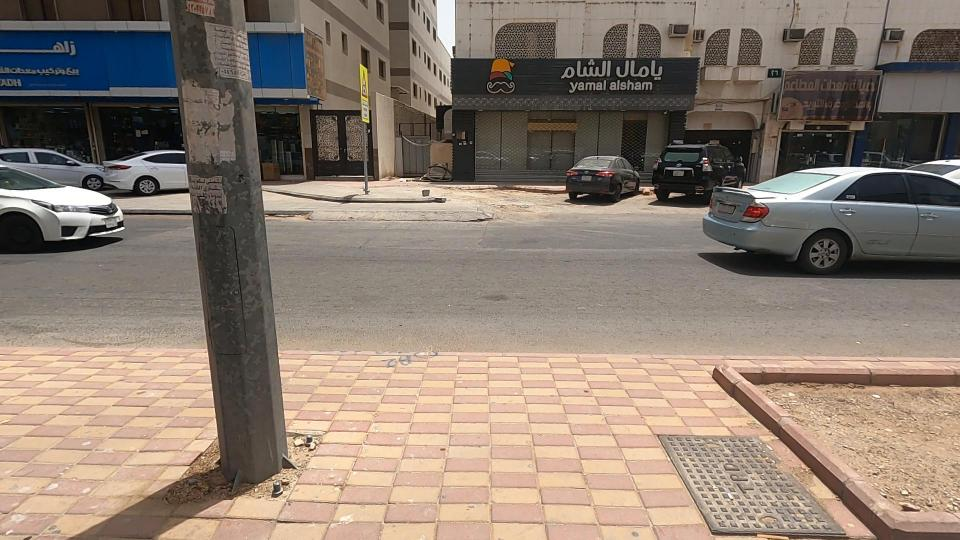BAD_BILLBOARD: (723, 34, 938, 168)
